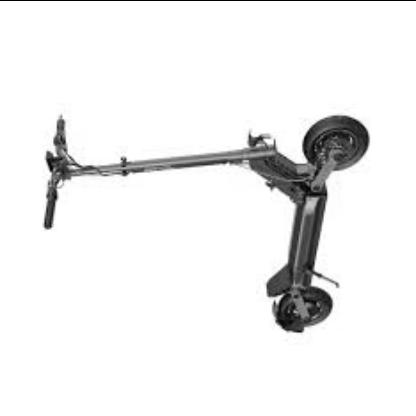bike: (36, 109, 374, 335)
